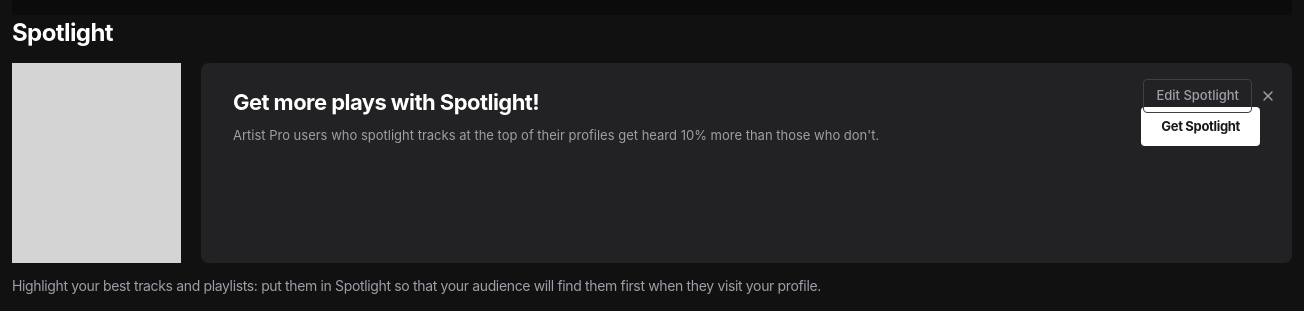
Scenario: Spotlight Component › hides promo when close button is clicked
What coordinates should you click on to do the following:
click the 2nd button
I would click on:
 (1268, 96)
Its box is [1260,88,1276,104].
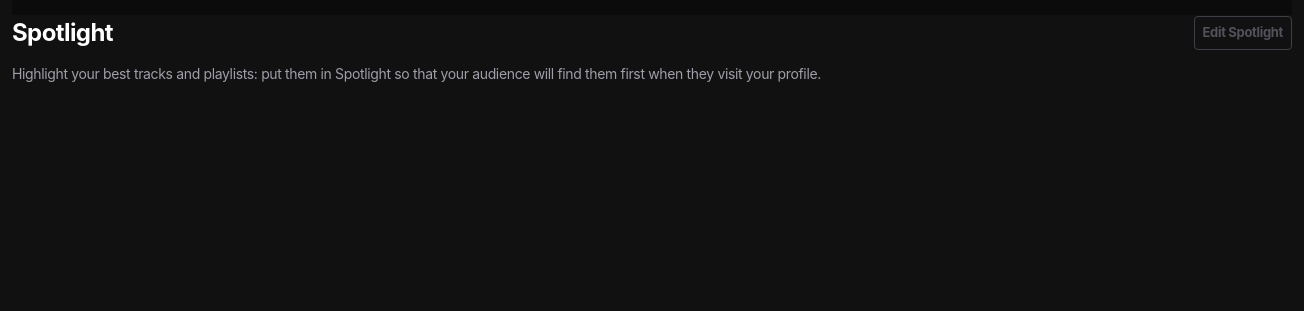
Expected: the text "Get more plays with Spotlight" is gone
